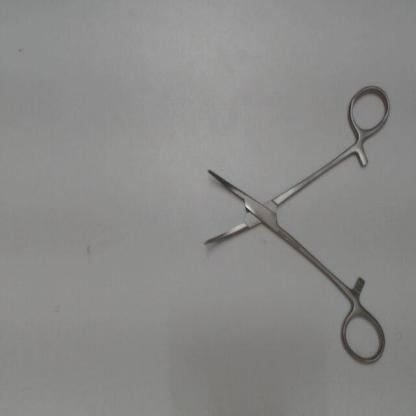Crile Artery Forceps: (195, 80, 396, 369)
